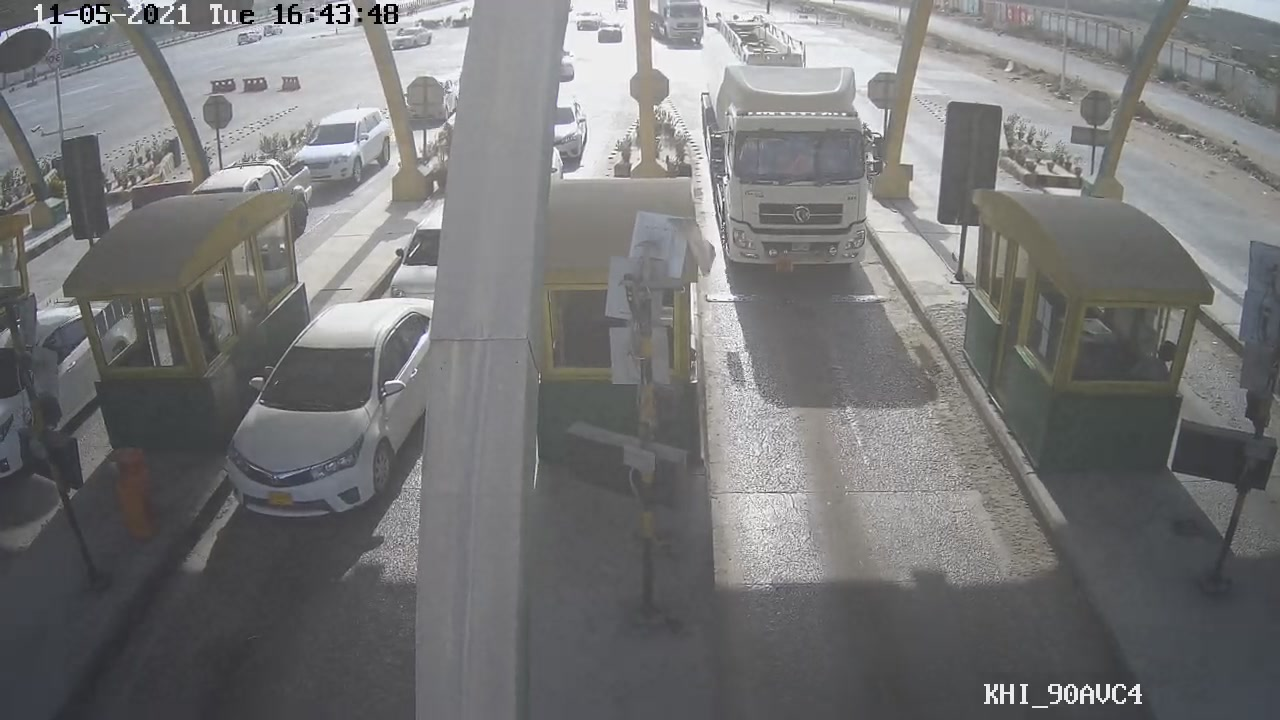F6: (698, 8, 895, 274)
